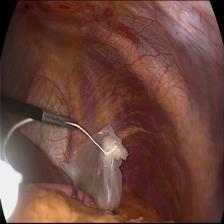Grasper: (38, 108, 80, 133)
Specimen Bag: (64, 119, 130, 216)
